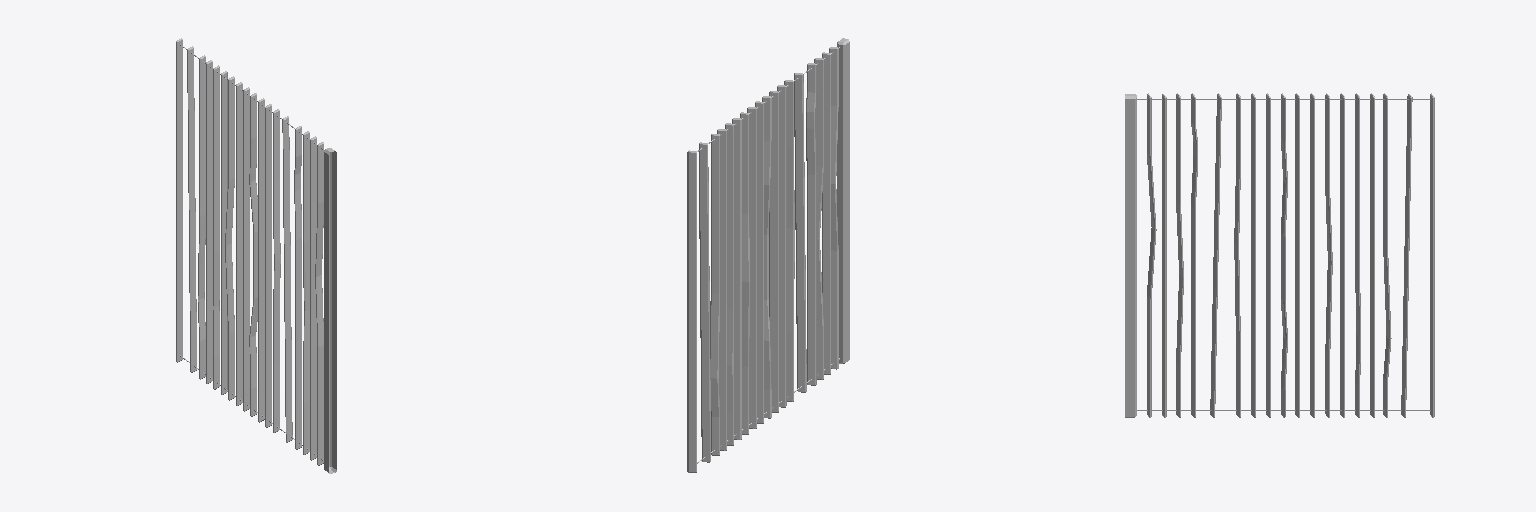
File: am_blindb.obj
The picture shows the model from 3 angles: view 1: azimuth 30°, elevation 25°; view 2: azimuth 150°, elevation 25°; view 3: azimuth 270°, elevation 25°; orthographic projection.
Visible parts, largest first — view 1: am_blindb; view 2: am_blindb; view 3: am_blindb.
Part boxes in pixels (x1,y1,x2,y2): am_blindb: (176,38,336,473); am_blindb: (687,38,849,472); am_blindb: (1125,93,1434,417).
Size of the model in its own units: 3.79 by 88 by 76.69.